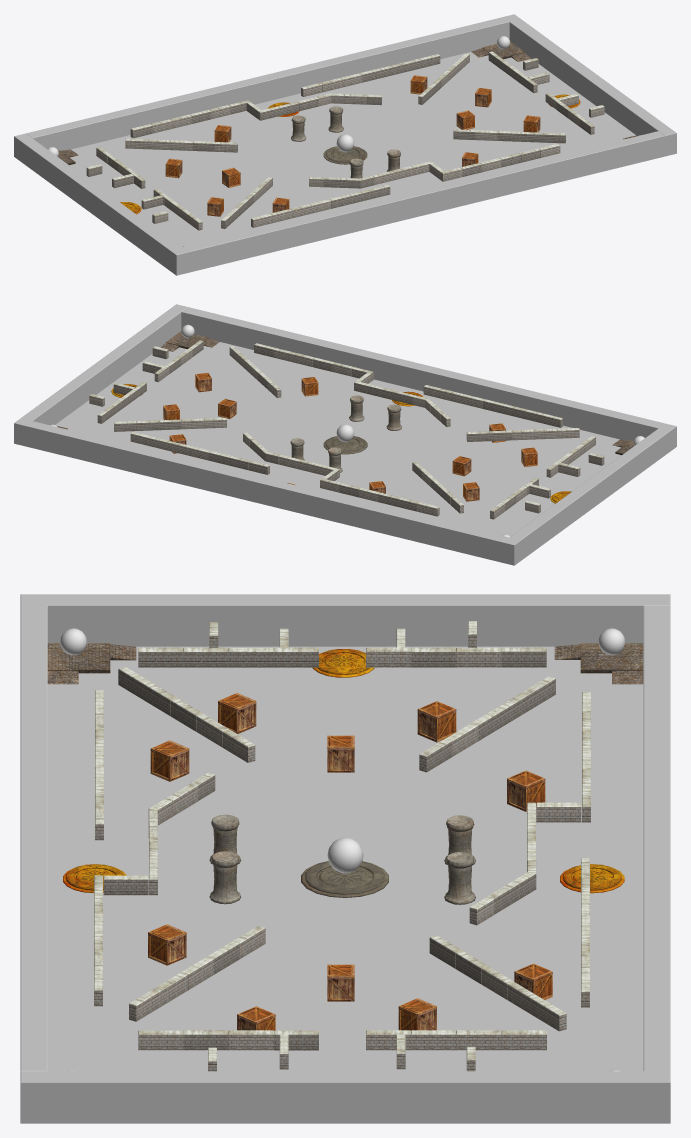
Rendered from Board.FBX.
3 views of the same model, one above another, from view 1: azimuth 30°, elevation 25°; view 2: azimuth 150°, elevation 25°; view 3: azimuth 270°, elevation 25° (orthographic). The views are drawn at different scales.
Visible parts, largest first — view 1: Floor, Wall, Module_corner_1, Hotspot_center; view 2: Floor, Wall, Module_corner_2, Hotspot_center; view 3: Floor, Wall, Module_corner_4, Module_corner_3, Hotspot_center, Crate_7, Crate_11, Crate_6, Column_007, Column_1, Hotspot_003, Crate_0 (+29 smaller).
Boxes of the visible parts, x1=… form: Floor: x1=69, y1=52, x2=635, y2=247; Wall: x1=14, y1=14, x2=676, y2=275; Module_corner_1: x1=471, y1=41, x2=531, y2=61; Hotspot_center: x1=323, y1=146, x2=367, y2=164; Floor: x1=55, y1=342, x2=621, y2=536; Wall: x1=14, y1=304, x2=676, y2=565; Module_corner_2: x1=161, y1=331, x2=219, y2=351; Hotspot_center: x1=323, y1=436, x2=367, y2=454; Floor: x1=47, y1=646, x2=643, y2=1071; Wall: x1=20, y1=594, x2=670, y2=1123; Module_corner_4: x1=47, y1=643, x2=136, y2=684; Module_corner_3: x1=554, y1=643, x2=643, y2=684; Hotspot_center: x1=301, y1=861, x2=388, y2=897; Crate_7: x1=150, y1=740, x2=189, y2=781; Crate_11: x1=417, y1=701, x2=456, y2=742; Crate_6: x1=148, y1=924, x2=186, y2=965; Column_007: x1=209, y1=851, x2=240, y2=904; Column_1: x1=444, y1=852, x2=475, y2=904; Hotspot_003: x1=312, y1=649, x2=374, y2=677; Crate_0: x1=218, y1=693, x2=256, y2=734.
Bounding box in the file's own units: 1280 × 51.49 × 720.
